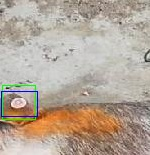text: (2, 85, 35, 119)
